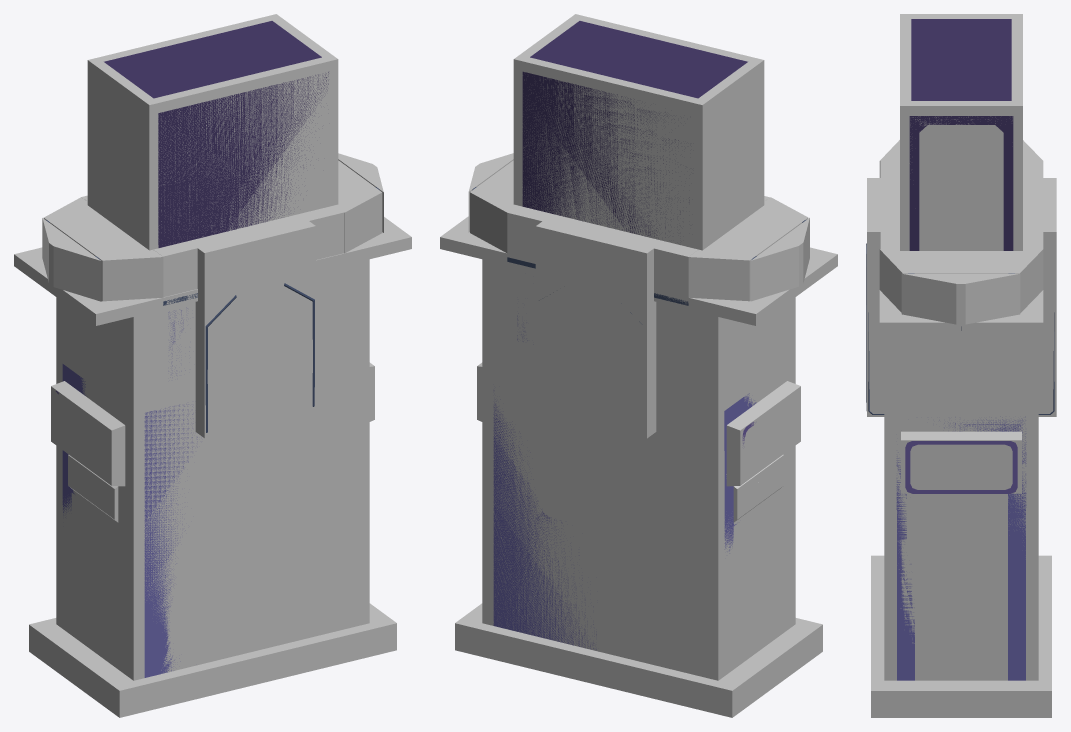
File: SM_Building_07.fbx
3 renders of one model, left to right at view 1: azimuth 30°, elevation 25°; view 2: azimuth 150°, elevation 25°; view 3: azimuth 270°, elevation 25°, orthographic.
Visible parts, largest first — view 1: SM_Building_07_ConvexHulls, SM_Building_07; view 2: SM_Building_07_ConvexHulls, SM_Building_07; view 3: SM_Building_07_ConvexHulls, SM_Building_07.
Boxes of the visible parts, bbox=[...] form: SM_Building_07_ConvexHulls: bbox=[14, 14, 411, 717]; SM_Building_07: bbox=[46, 21, 379, 677]; SM_Building_07_ConvexHulls: bbox=[440, 14, 837, 717]; SM_Building_07: bbox=[472, 21, 805, 649]; SM_Building_07_ConvexHulls: bbox=[867, 14, 1056, 717]; SM_Building_07: bbox=[866, 19, 1054, 680].
Size of the model in its own units: 687 by 351 by 1200.
Materials: 2 (1 with a texture image).
